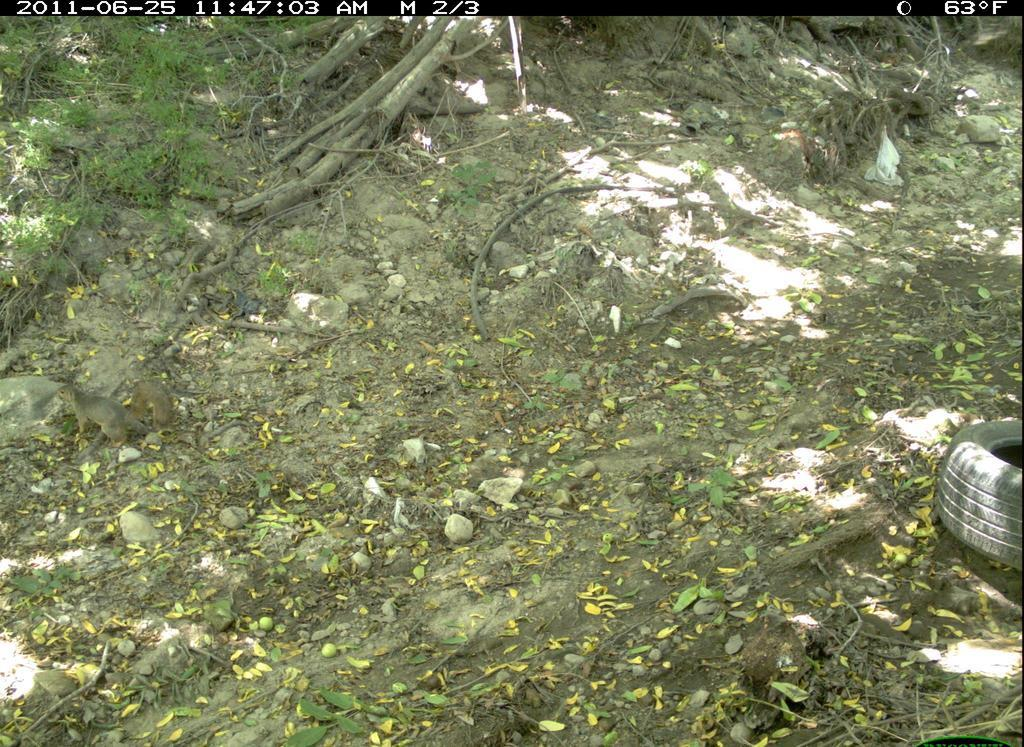squirrel: (48, 373, 182, 455)
